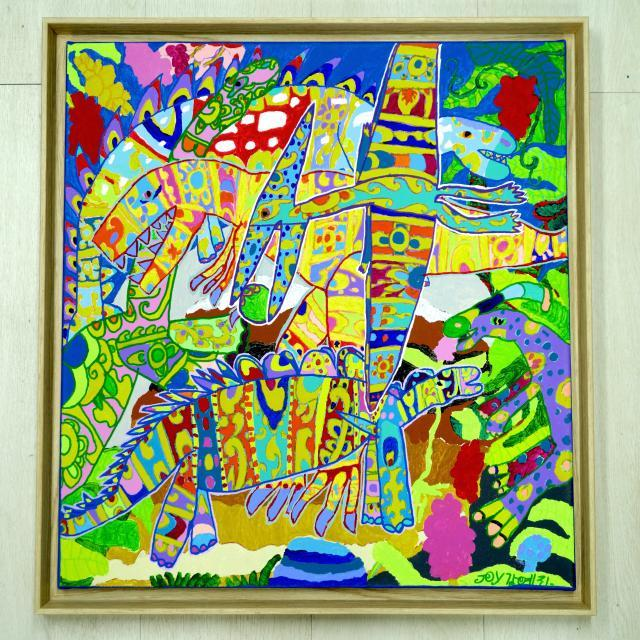painting: (38, 19, 594, 614)
